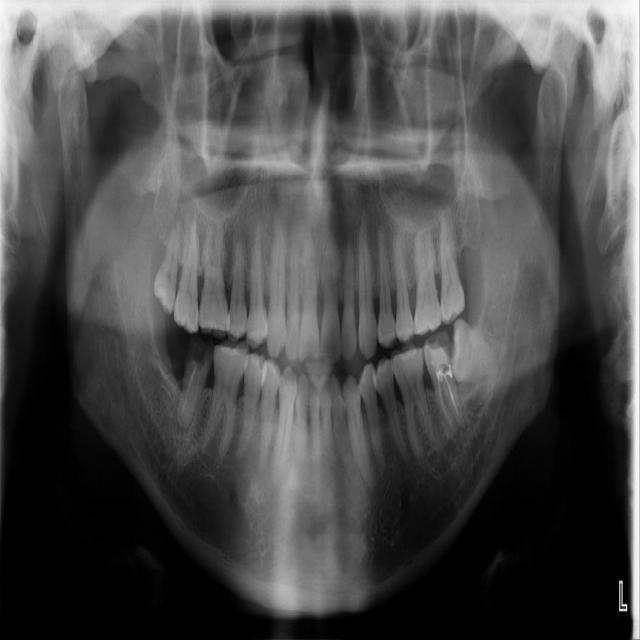Filling: (423, 331, 454, 380)
Root Canal Treatment: (436, 373, 452, 425), (441, 372, 459, 416)
impacted tooth: (453, 318, 513, 383)
